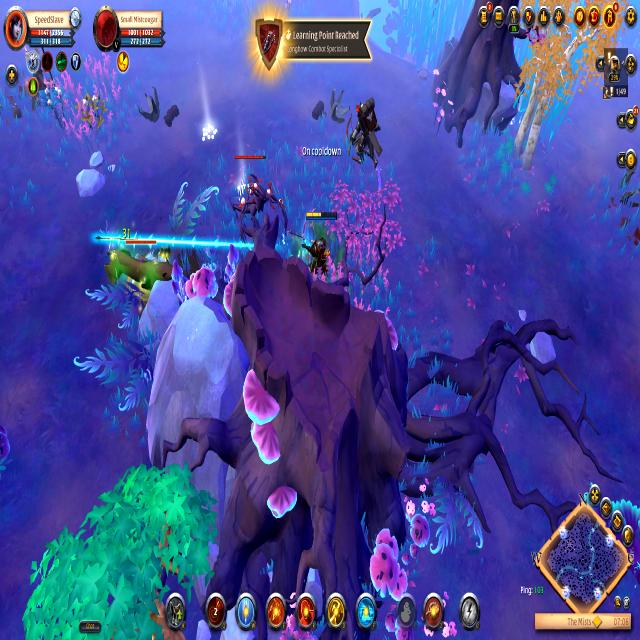hide: (39, 78, 71, 136), (78, 88, 106, 132)
ore: (93, 223, 180, 309), (344, 88, 386, 175)
red: (230, 151, 274, 235), (301, 208, 338, 284)
stone: (200, 119, 218, 145)
wisp caged: (14, 458, 219, 640), (501, 0, 629, 178)
